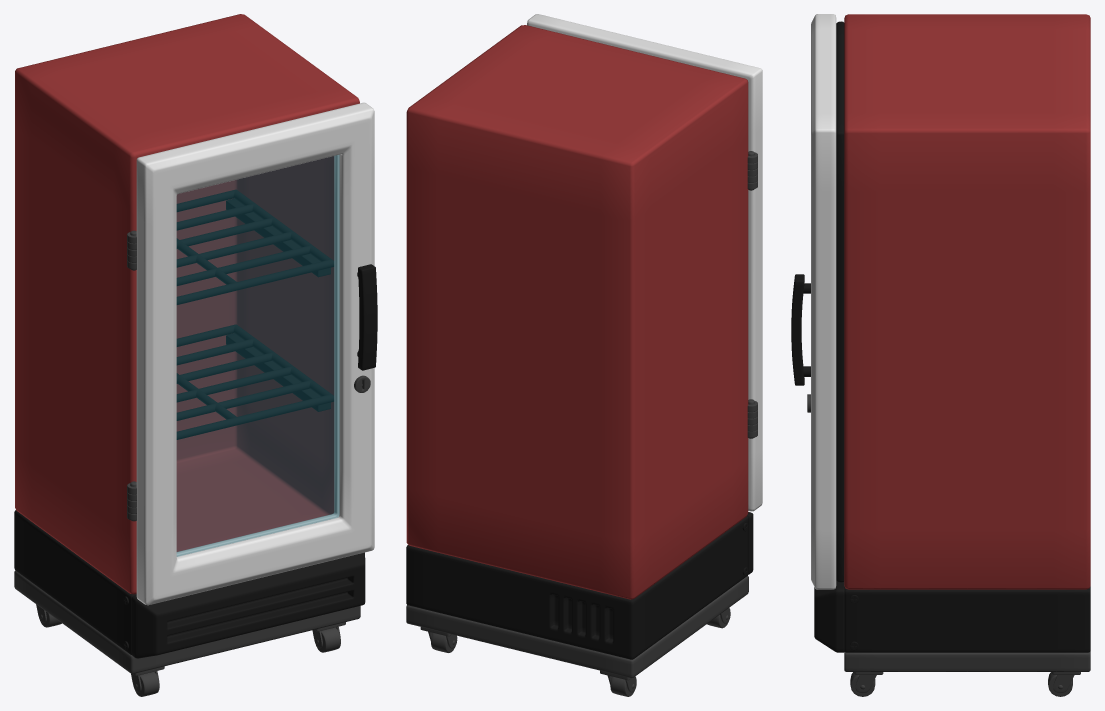
Rendered from Drink Fridge.fbx.
3 renders of one model, left to right at view 1: azimuth 30°, elevation 25°; view 2: azimuth 150°, elevation 25°; view 3: azimuth 270°, elevation 25°, orthographic. The views are drawn at different scales.
Parts seen in each view (by area): view 1: body, glass, door, vent, base_vent, rack_2, rack_1, base, handle, rack_edge_1, rack_edge_1_2; view 2: body, base_vent, door, base; view 3: body, base_vent, door, rubber_seal, base, vent, handle.
Part boxes in pixels (x1,y1,x2,y2): body: (15, 14, 359, 594); glass: (177, 155, 339, 556); door: (136, 102, 374, 605); vent: (131, 552, 365, 658); base_vent: (14, 510, 136, 654); rack_2: (176, 324, 334, 439); rack_1: (176, 189, 334, 304); base: (14, 570, 360, 673); handle: (358, 264, 377, 370); rack_edge_1: (226, 198, 330, 277); rack_edge_1_2: (226, 333, 330, 411); body: (406, 25, 748, 599); base_vent: (406, 516, 748, 659); door: (527, 14, 762, 511); base: (406, 576, 748, 677); body: (844, 14, 1090, 589); base_vent: (844, 586, 1090, 652); door: (811, 14, 836, 589); rubber_seal: (836, 21, 844, 582); base: (844, 651, 1090, 671); vent: (814, 581, 844, 652); handle: (791, 274, 804, 385).
Bounding box in the file's own units: 5.11 × 11.4 × 5.37.
